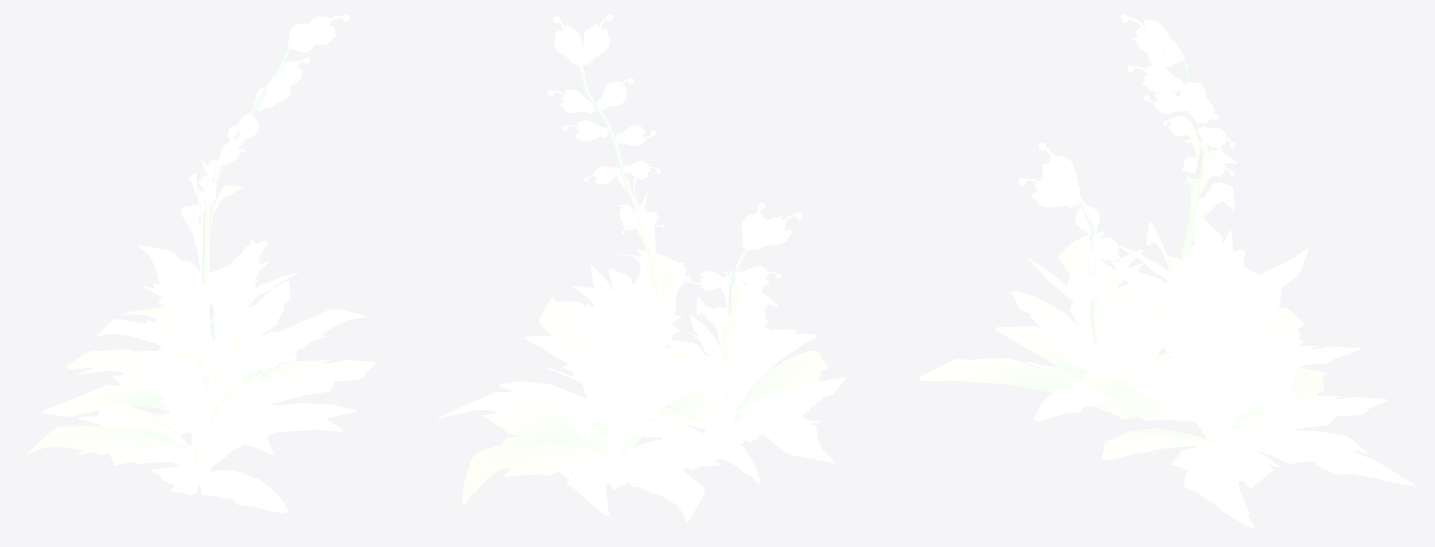
3 renders of one model, left to right at view 1: azimuth 30°, elevation 25°; view 2: azimuth 150°, elevation 25°; view 3: azimuth 270°, elevation 25°, orthographic. The views are drawn at different scales.
Visible parts, largest first — view 1: SM_BM_Fox_Glove_02_LOD0; view 2: SM_BM_Fox_Glove_02_LOD0; view 3: SM_BM_Fox_Glove_02_LOD0.
Part boxes in pixels (left/top/right/bottom): SM_BM_Fox_Glove_02_LOD0: left=27, top=14, right=375, bottom=513; SM_BM_Fox_Glove_02_LOD0: left=437, top=14, right=845, bottom=521; SM_BM_Fox_Glove_02_LOD0: left=918, top=14, right=1415, bottom=527.
Bounding box in the file's own units: 0.6916 × 0.7031 × 0.7119.
Materials: 1 (1 with a texture image).
